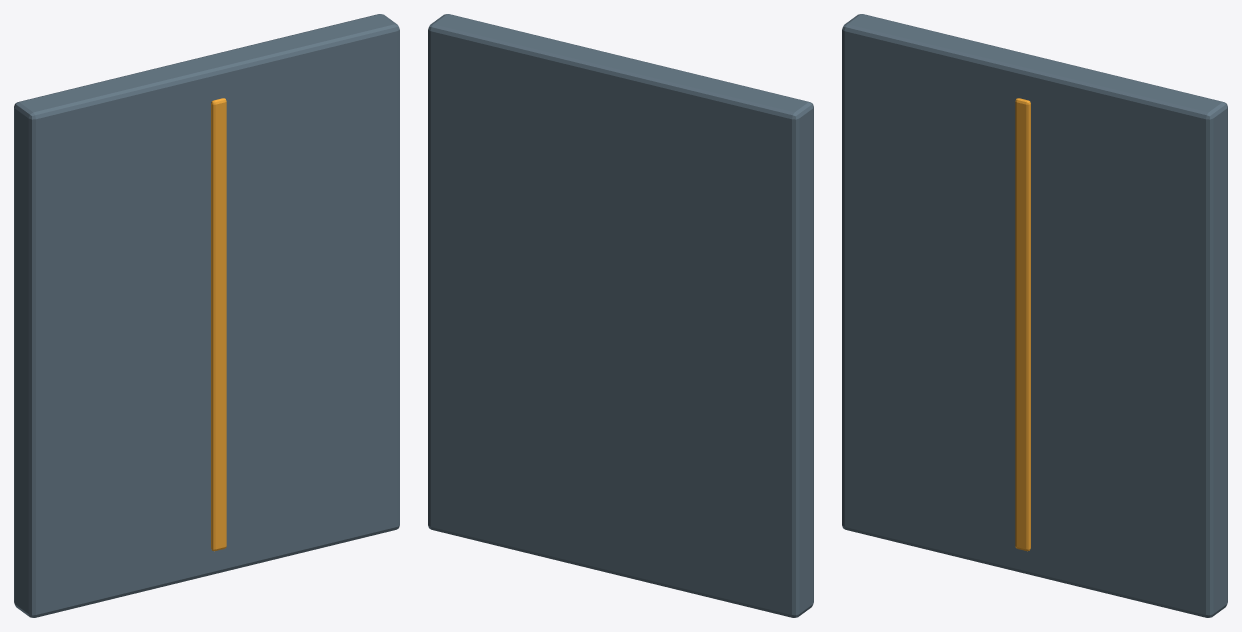
File: CL_DoorLeaf_2x2p6.fbx
The picture shows the model from 3 angles, left to right: view 1: azimuth 30°, elevation 25°; view 2: azimuth 150°, elevation 25°; view 3: azimuth 330°, elevation 25°; orthographic projection.
Parts seen in each view (by area): view 1: SlidingLeaf, DoorStripe; view 2: SlidingLeaf; view 3: SlidingLeaf, DoorStripe.
Boxes of the visible parts, x1,y1,x2,y2 form: SlidingLeaf: [14, 14, 399, 617]; DoorStripe: [211, 98, 226, 551]; SlidingLeaf: [428, 14, 813, 617]; SlidingLeaf: [842, 14, 1227, 617]; DoorStripe: [1015, 98, 1030, 551].
Size of the model in its own units: 1.98 by 2.58 by 0.215.
